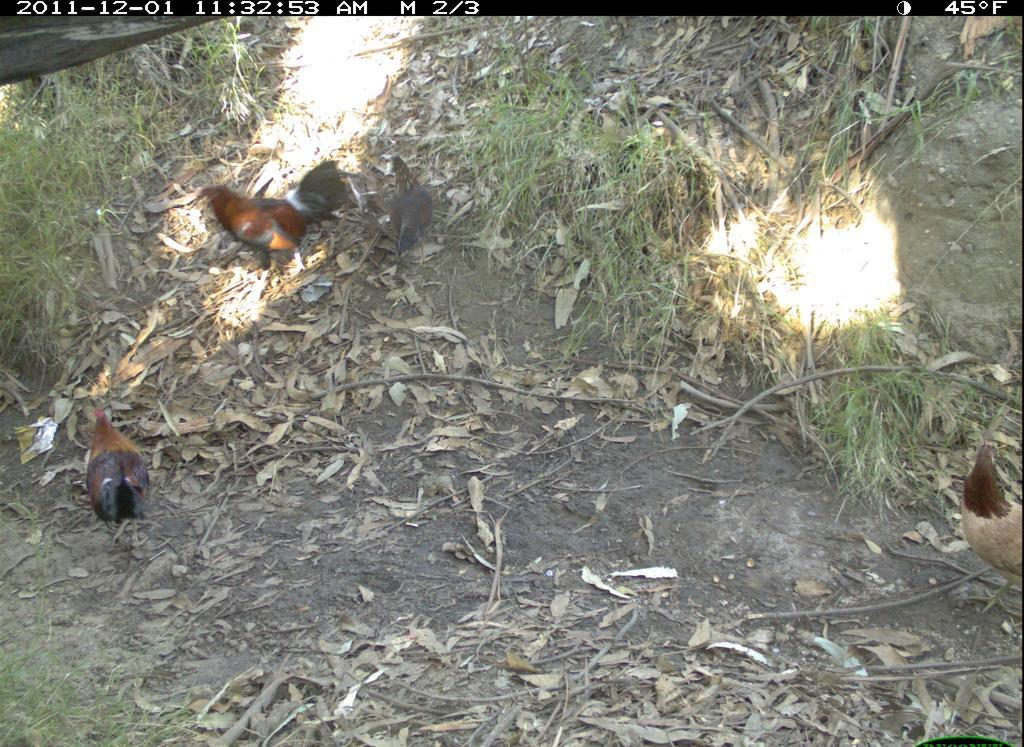bird: (196, 161, 355, 269), (73, 400, 166, 560), (944, 441, 1021, 619), (383, 155, 442, 290)
